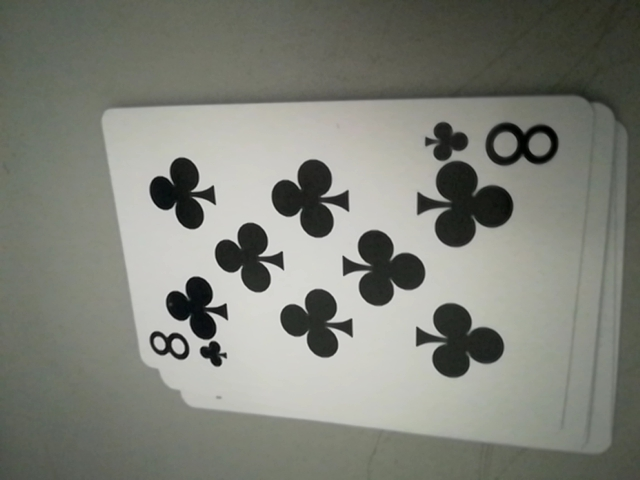mh 8: (422, 114, 562, 170), (146, 326, 226, 376)
